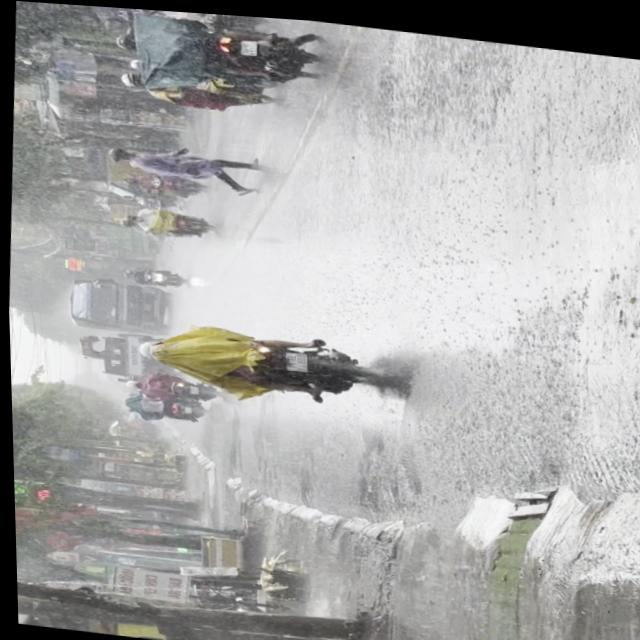helmet: (135, 335, 161, 359), (113, 28, 137, 48)
licenseplate: (132, 311, 389, 411), (104, 5, 331, 86)
nohelmet: (283, 346, 306, 368), (239, 35, 256, 51)
